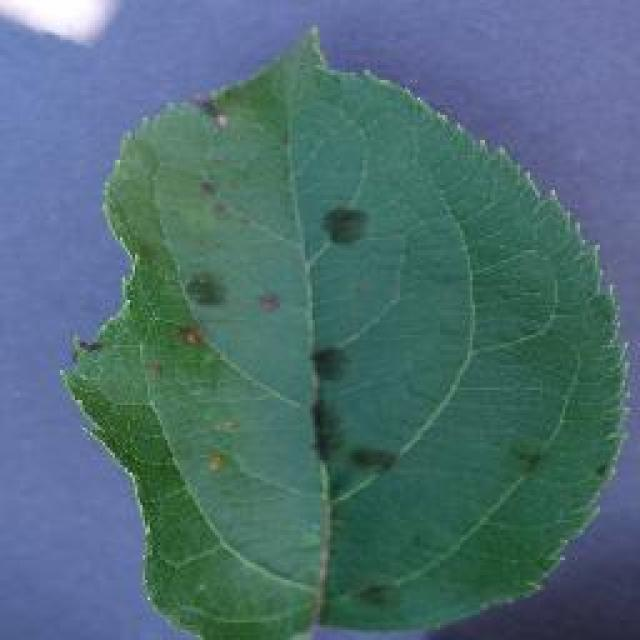apple scab disease: (60, 22, 632, 638)
